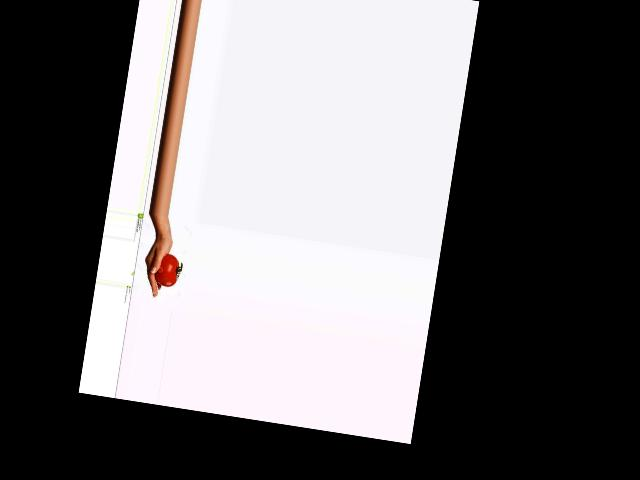tomato: (153, 252, 180, 288)
